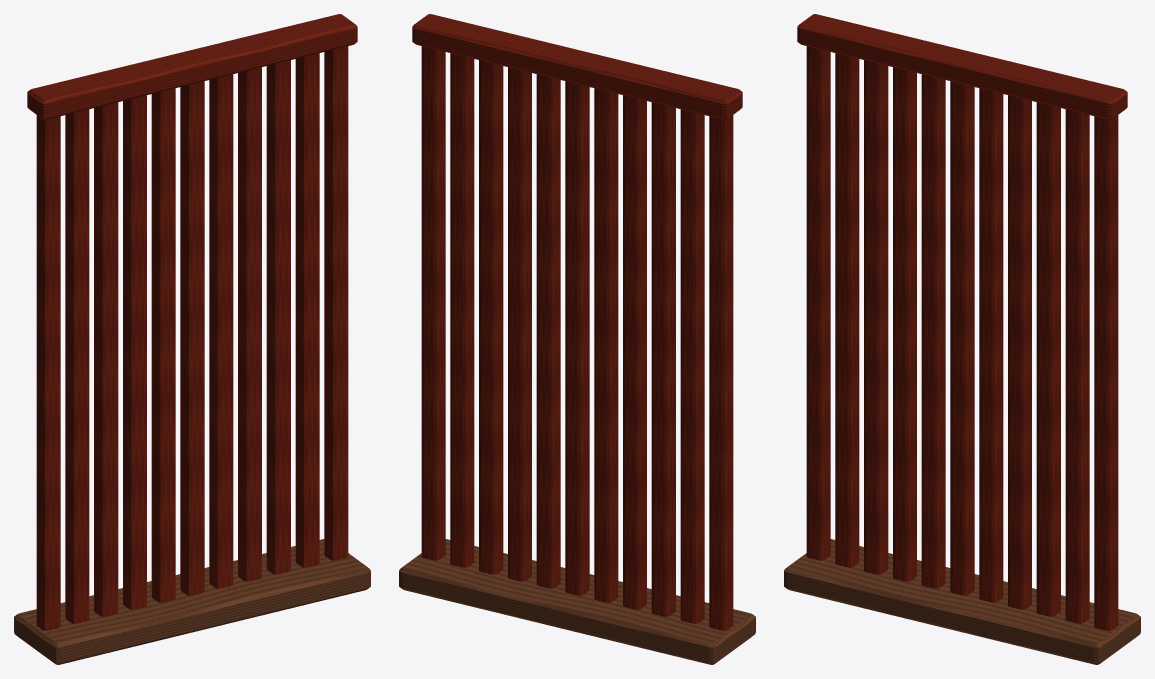
File: worship_screen_oak.glb
3 views of the same model, side by side, from view 1: azimuth 30°, elevation 25°; view 2: azimuth 150°, elevation 25°; view 3: azimuth 330°, elevation 25° (orthographic).
Visible parts, largest first — view 1: worship_screen_oak_woodMahogany, worship_screen_oak_woodWalnut; view 2: worship_screen_oak_woodMahogany, worship_screen_oak_woodWalnut; view 3: worship_screen_oak_woodMahogany, worship_screen_oak_woodWalnut.
Boxes of the visible parts, <box> form: worship_screen_oak_woodMahogany: <box>27,14,357,630</box>; worship_screen_oak_woodWalnut: <box>14,539,370,664</box>; worship_screen_oak_woodMahogany: <box>412,14,742,630</box>; worship_screen_oak_woodWalnut: <box>399,539,755,664</box>; worship_screen_oak_woodMahogany: <box>797,14,1127,630</box>; worship_screen_oak_woodWalnut: <box>784,539,1140,664</box>.
Size of what is drawn, in the model's own units: 0.92 by 1.54 by 0.22.
2 materials, 2 textured.
